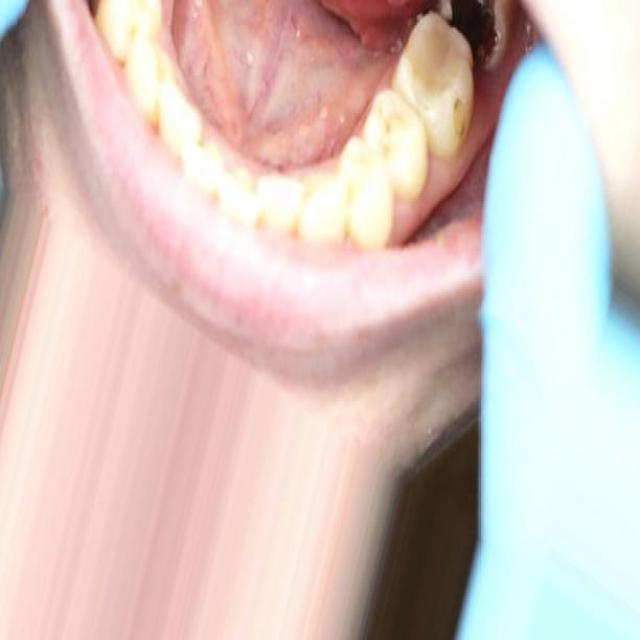caries: (442, 0, 507, 73), (439, 82, 476, 152)
